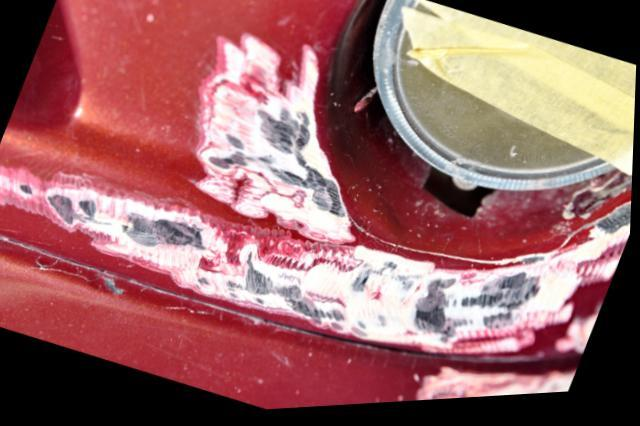scratch: (0, 30, 633, 406)
